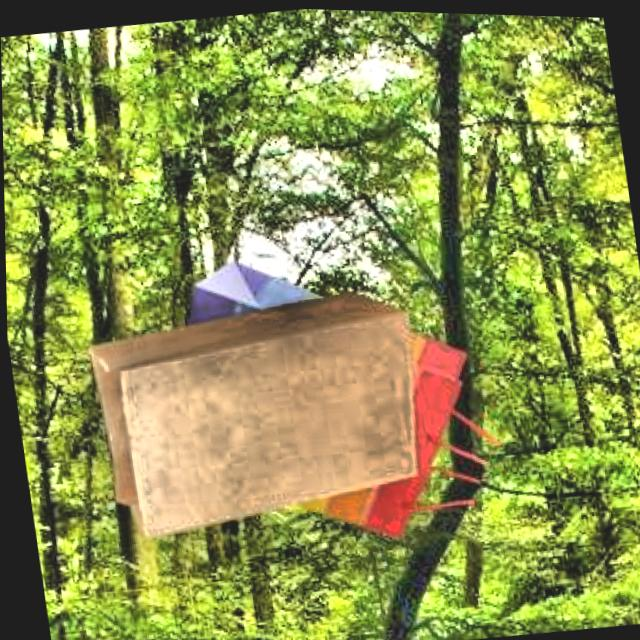Paper-bag: (130, 209, 513, 576), (74, 273, 454, 558)
